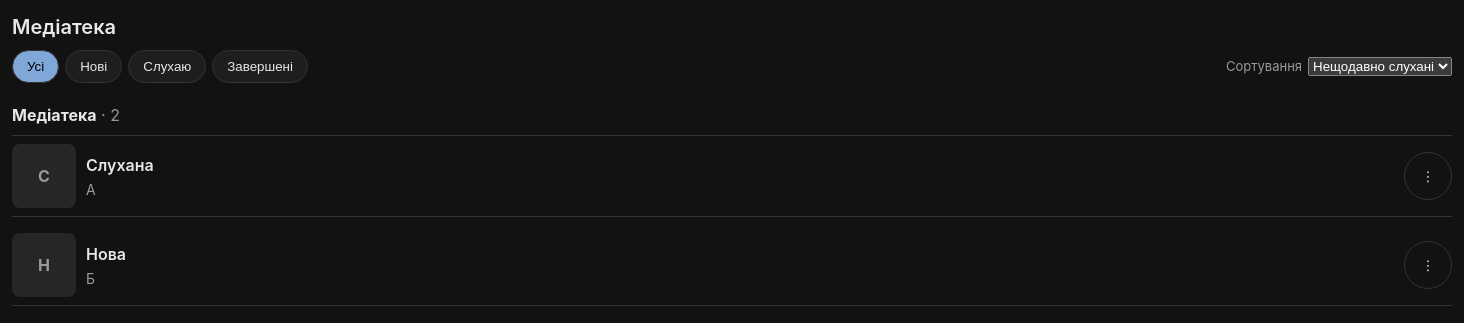
Test case: Library › filters by the status trilogy and keeps the counter live
expect the text "Слухана" is shown: met, box [86,152,154,176]
Click the button "Нові" at {"x": 94, "y": 66}, box [65,50,122,83]
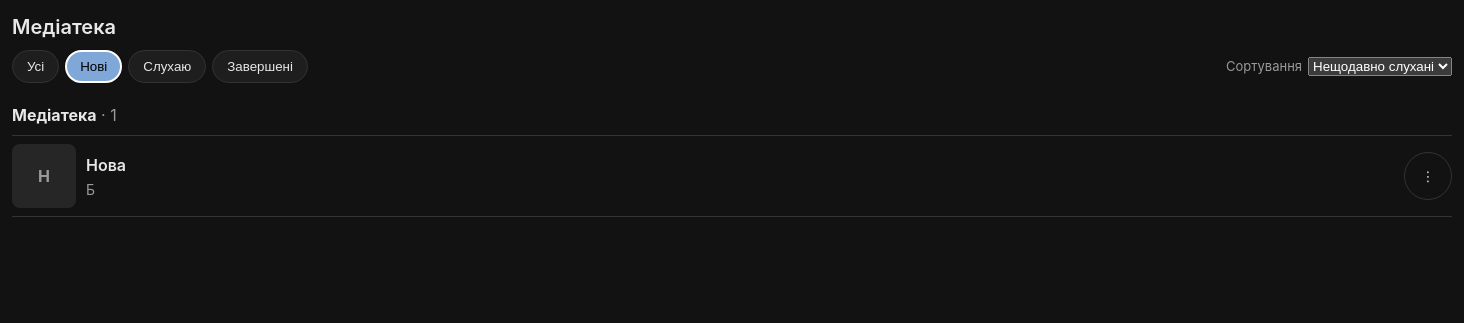
expect the text "Нова" is shown: met, box [86,152,126,176]
expect the text "Слухана" is gone: met
Click the button "Слухаю" at {"x": 167, "y": 66}, box [128,50,206,83]
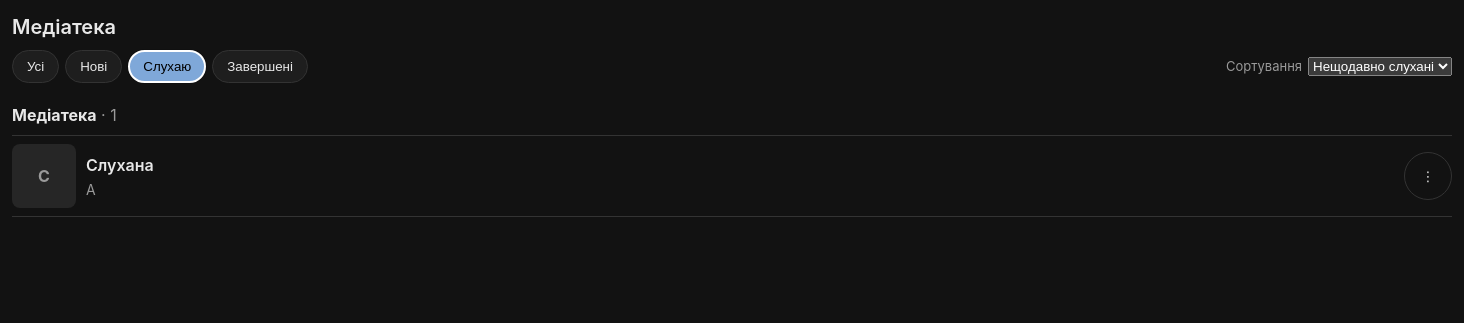
expect the text "Слухана" is shown: met, box [86,152,154,176]
expect the text "Нова" is gone: met
